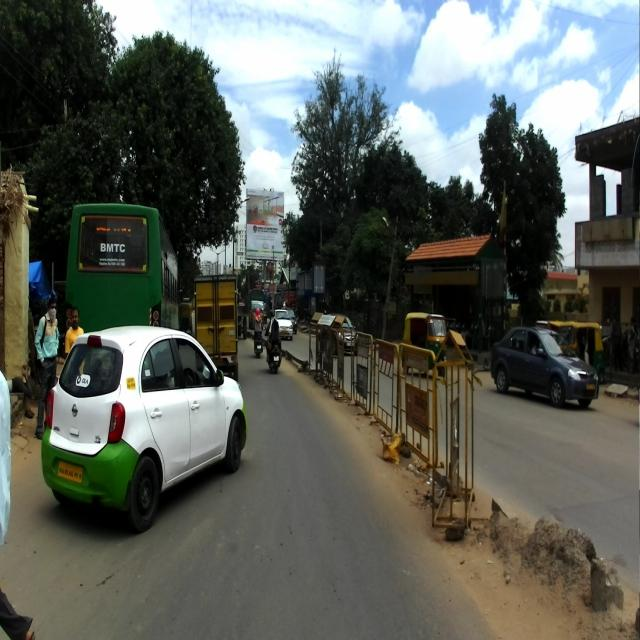Car_Nissan: (41, 322, 246, 532)
Car_Toyota: (491, 326, 599, 410)
bus: (66, 204, 181, 332)
